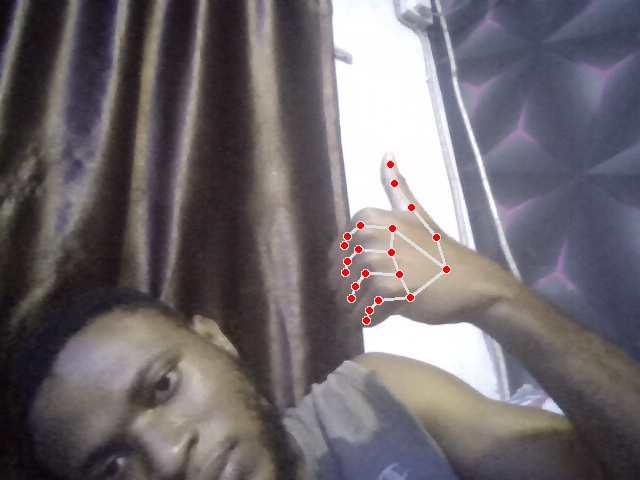thumbsup: (328, 154, 463, 329)
